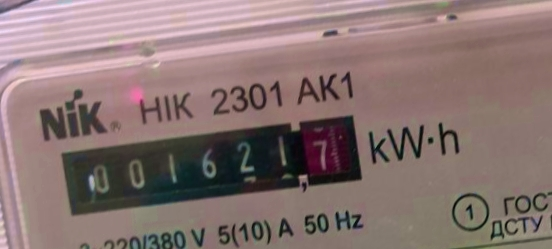0: (124, 155, 150, 194), (90, 160, 113, 196)
1: (274, 132, 291, 170), (164, 150, 181, 187)
2: (234, 139, 259, 176)
6: (198, 146, 220, 182)
7: (309, 137, 333, 174)
screen: (56, 112, 370, 222)
